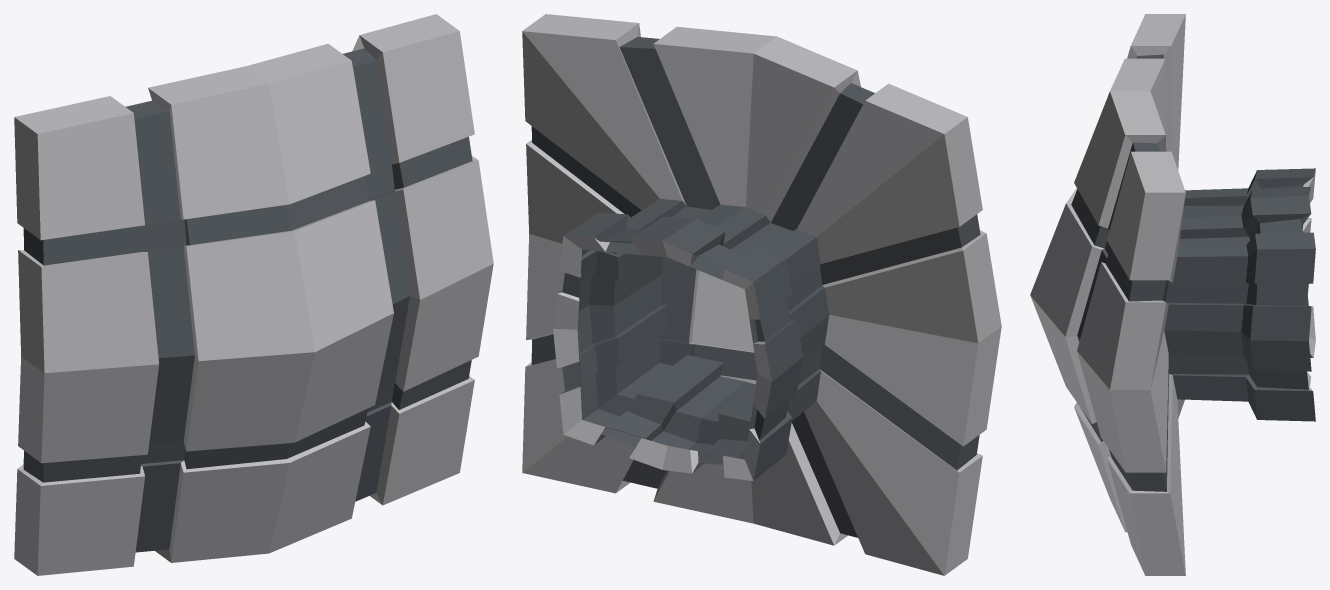
Rendered from Personal_Vehicle_01_Bumper.fbx.
3 views of the same model, side by side, from view 1: azimuth 30°, elevation 25°; view 2: azimuth 150°, elevation 25°; view 3: azimuth 270°, elevation 25° (orthographic). The views are drawn at different scales.
Parts seen in each view (by area): view 1: Personal_Vehicle_01_Bumper; view 2: Personal_Vehicle_01_Bumper; view 3: Personal_Vehicle_01_Bumper.
Part boxes in pixels (left/top/right/bottom): Personal_Vehicle_01_Bumper: left=14, top=14, right=493, bottom=575; Personal_Vehicle_01_Bumper: left=522, top=14, right=1001, bottom=575; Personal_Vehicle_01_Bumper: left=1030, top=14, right=1315, bottom=575.
Size of the model in its own units: 37.83 by 37.83 by 24.03.
Materials: 1 (1 with a texture image).
